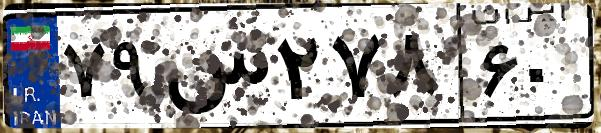0: (525, 38, 570, 115)
2: (270, 28, 330, 110)
6: (475, 38, 525, 113)
7: (330, 28, 385, 110), (57, 26, 110, 100)
8: (385, 28, 445, 110)
9: (110, 28, 158, 98)
س: (158, 20, 270, 120)
